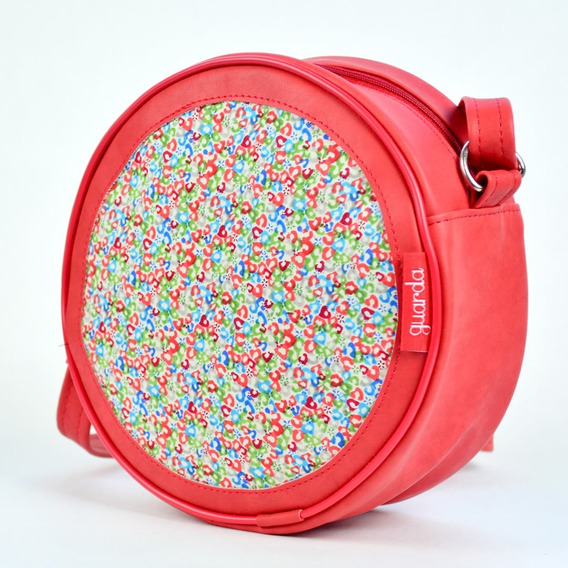cartera: (53, 49, 533, 539)
